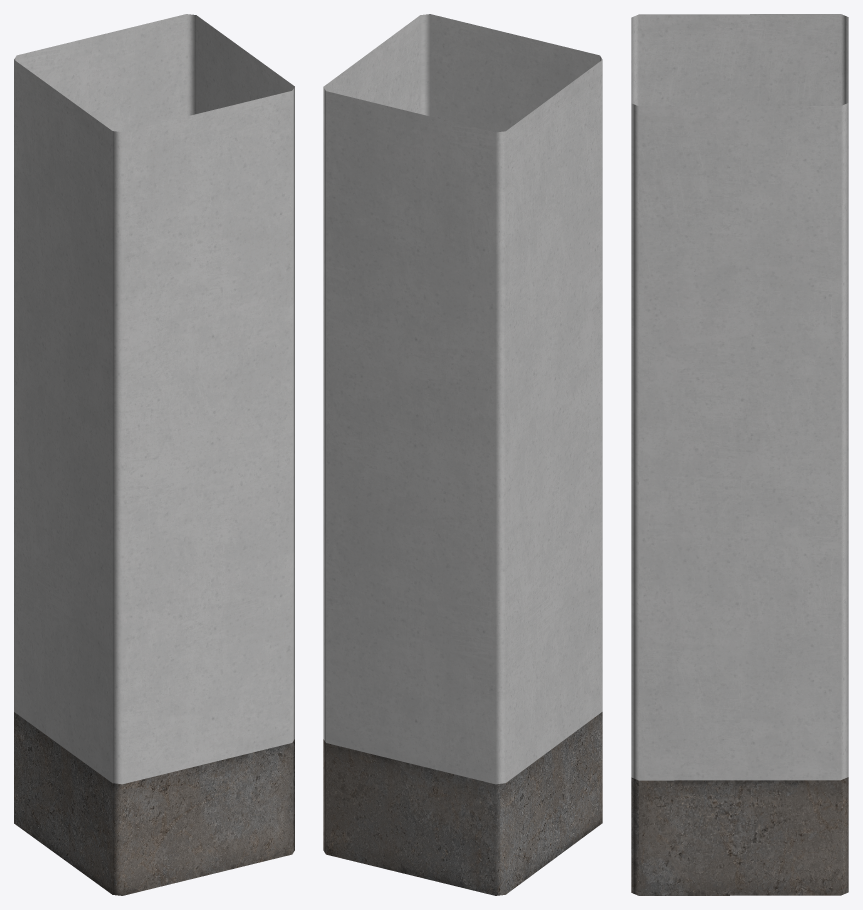
The model's file is MB_Column_A_02.fbx.
3 renders of one model, left to right at view 1: azimuth 30°, elevation 25°; view 2: azimuth 150°, elevation 25°; view 3: azimuth 270°, elevation 25°, orthographic. The views are drawn at different scales.
Visible parts, largest first — view 1: MB_Column_A_02; view 2: MB_Column_A_02; view 3: MB_Column_A_02.
Boxes of the visible parts, x1,y1,x2,y2 form: MB_Column_A_02: (14, 14, 294, 895); MB_Column_A_02: (323, 14, 602, 895); MB_Column_A_02: (631, 14, 848, 895).
Size of the model in its own units: 100 by 400 by 99.76.
